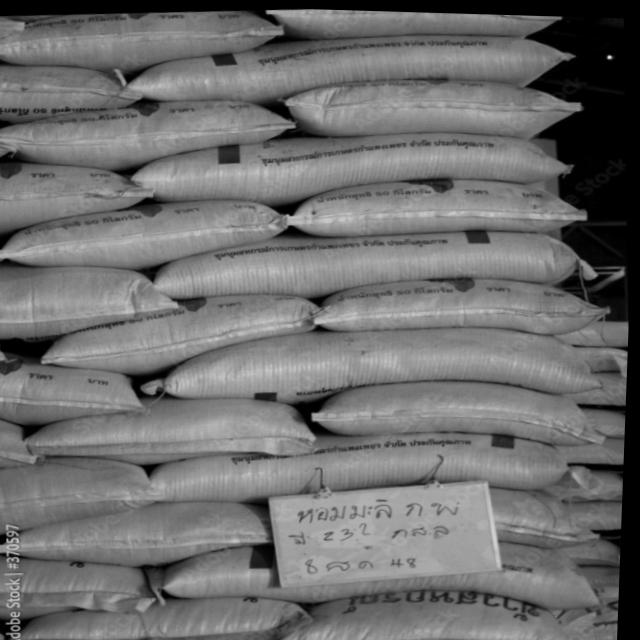sack: (141, 309, 604, 413), (120, 18, 577, 115), (131, 115, 573, 215), (152, 215, 598, 309), (153, 414, 574, 506), (39, 285, 326, 380), (0, 90, 297, 181), (313, 367, 610, 457), (0, 190, 292, 278), (27, 386, 319, 472), (282, 66, 581, 149), (0, 490, 277, 575), (315, 266, 613, 345), (287, 166, 590, 241), (0, 4, 285, 81), (276, 575, 578, 640), (10, 587, 317, 640), (0, 258, 190, 343), (0, 451, 159, 540), (0, 154, 159, 242), (0, 545, 171, 618), (263, 6, 562, 47), (0, 347, 147, 428), (0, 58, 144, 124), (491, 479, 603, 549), (501, 535, 605, 609), (168, 541, 283, 600)
